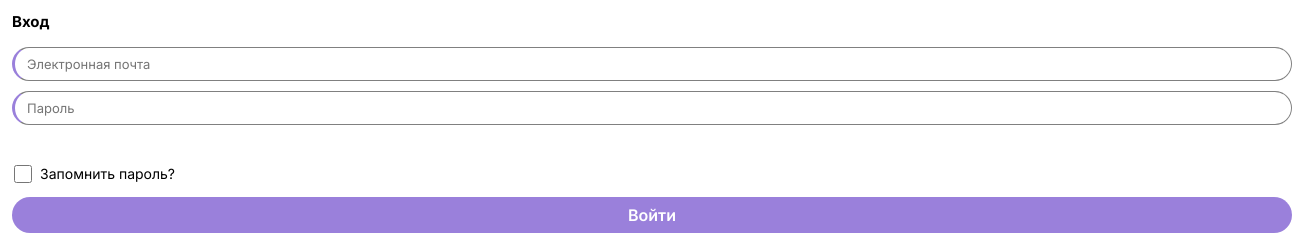
Scenario: AuthForm › отправка формы › с пустыми полями показывает ошибку формата и не отправляет запрос
Click the button "Войти": coordinates (652, 214) [12,196,1292,232]
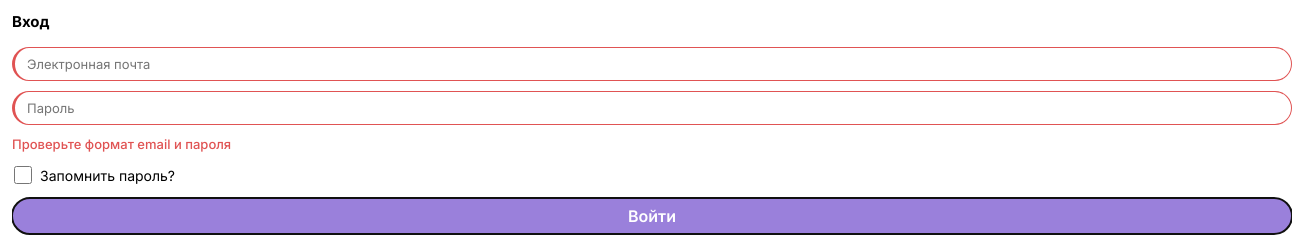
Check: the text "Проверьте формат email и пароля" is shown, box [12,136,231,152]
